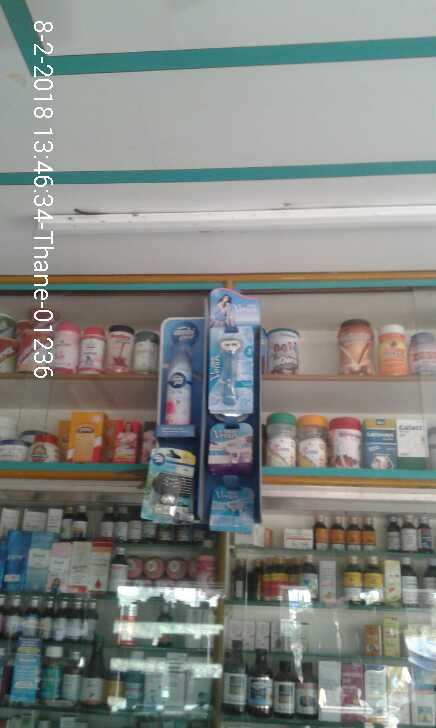beauty: (208, 328, 258, 418), (208, 487, 257, 531), (207, 422, 256, 465)
home: (142, 446, 197, 522), (164, 344, 190, 424)
